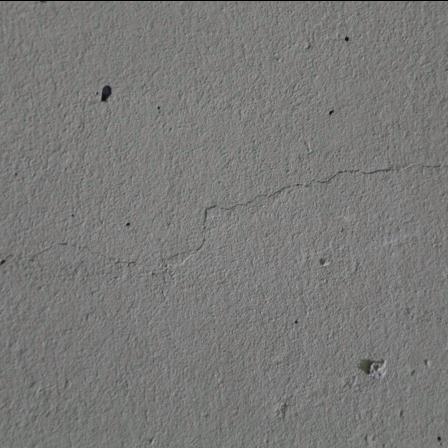crack: (20, 115, 448, 304)
hole: (99, 82, 114, 103)
